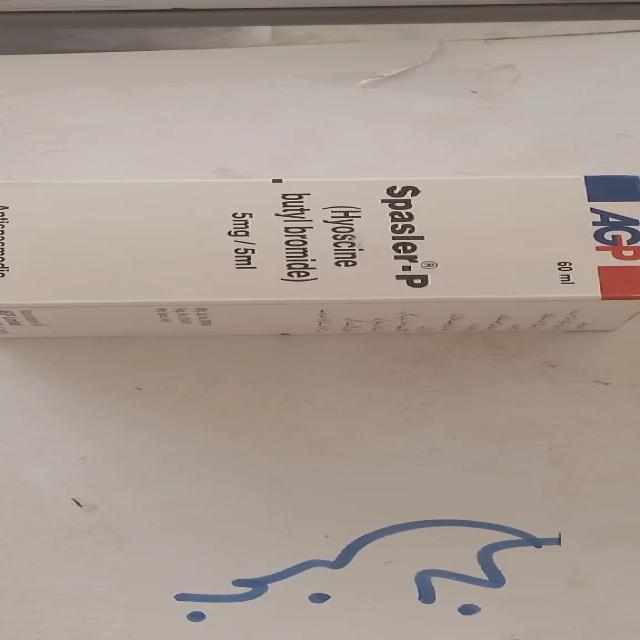drug-name: (378, 183, 440, 293)
